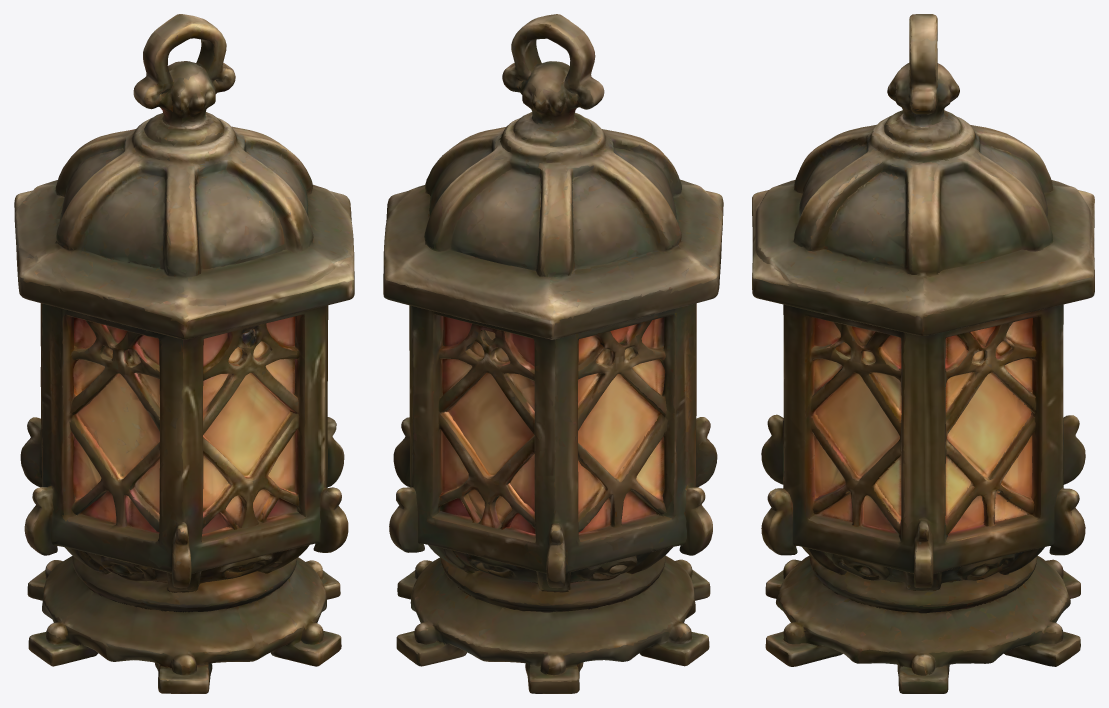
The model's file is token-lantern.glb.
3 renders of one model, left to right at view 1: azimuth 30°, elevation 25°; view 2: azimuth 150°, elevation 25°; view 3: azimuth 270°, elevation 25°, orthographic.
Parts seen in each view (by area): view 1: geometry_0; view 2: geometry_0; view 3: geometry_0.
Boxes of the visible parts, x1,y1,x2,y2 form: geometry_0: (14,14,354,693); geometry_0: (383,14,723,693); geometry_0: (752,14,1094,693).
Bounding box in the file's own units: 0.2548 × 0.45 × 0.2299.
Materials: 1 (1 with a texture image).
